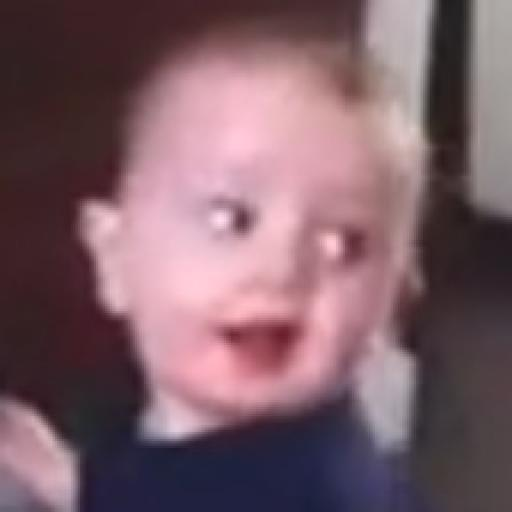Autism: (120, 39, 433, 465)
